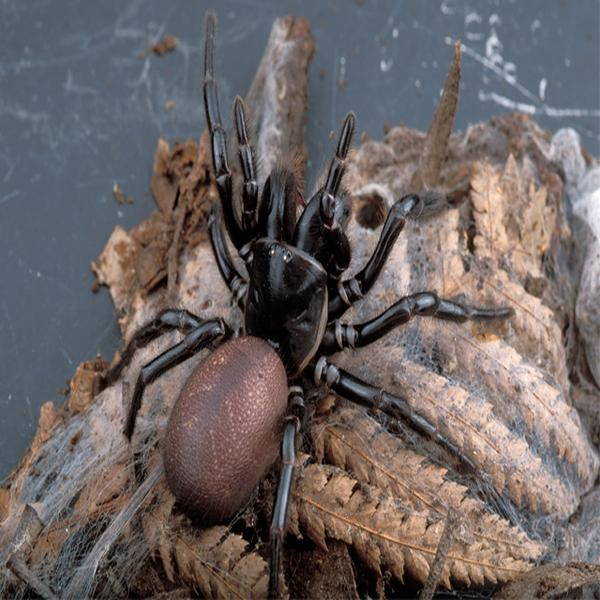Funnel Web Spider: (114, 19, 487, 547)
